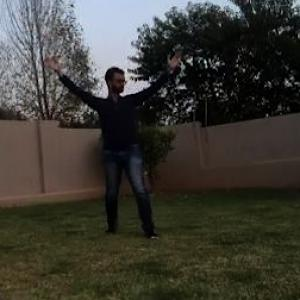takeoff: (44, 51, 192, 236)
